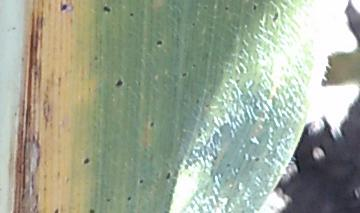tarspot: (113, 78, 124, 88), (59, 3, 70, 11), (102, 4, 111, 13), (223, 161, 232, 169), (180, 71, 188, 79), (125, 194, 133, 202), (155, 39, 164, 46), (253, 155, 260, 164), (165, 171, 171, 181), (83, 157, 90, 165), (138, 177, 145, 185), (148, 120, 155, 128), (190, 62, 198, 69), (87, 207, 96, 213), (128, 11, 135, 18), (53, 206, 60, 213), (92, 54, 99, 61), (104, 197, 112, 203), (251, 4, 258, 10), (223, 6, 230, 11), (191, 21, 196, 27)
